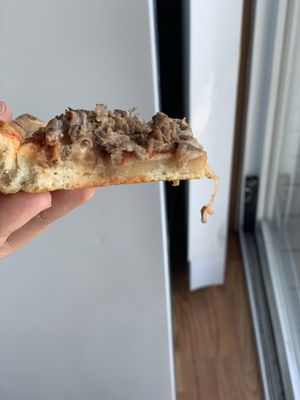sandwich: (0, 101, 214, 195)
